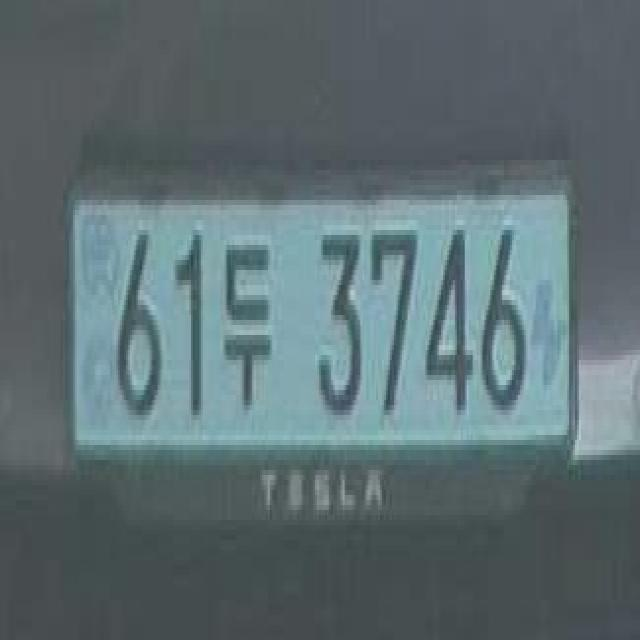EV_plate: (70, 150, 578, 545)
